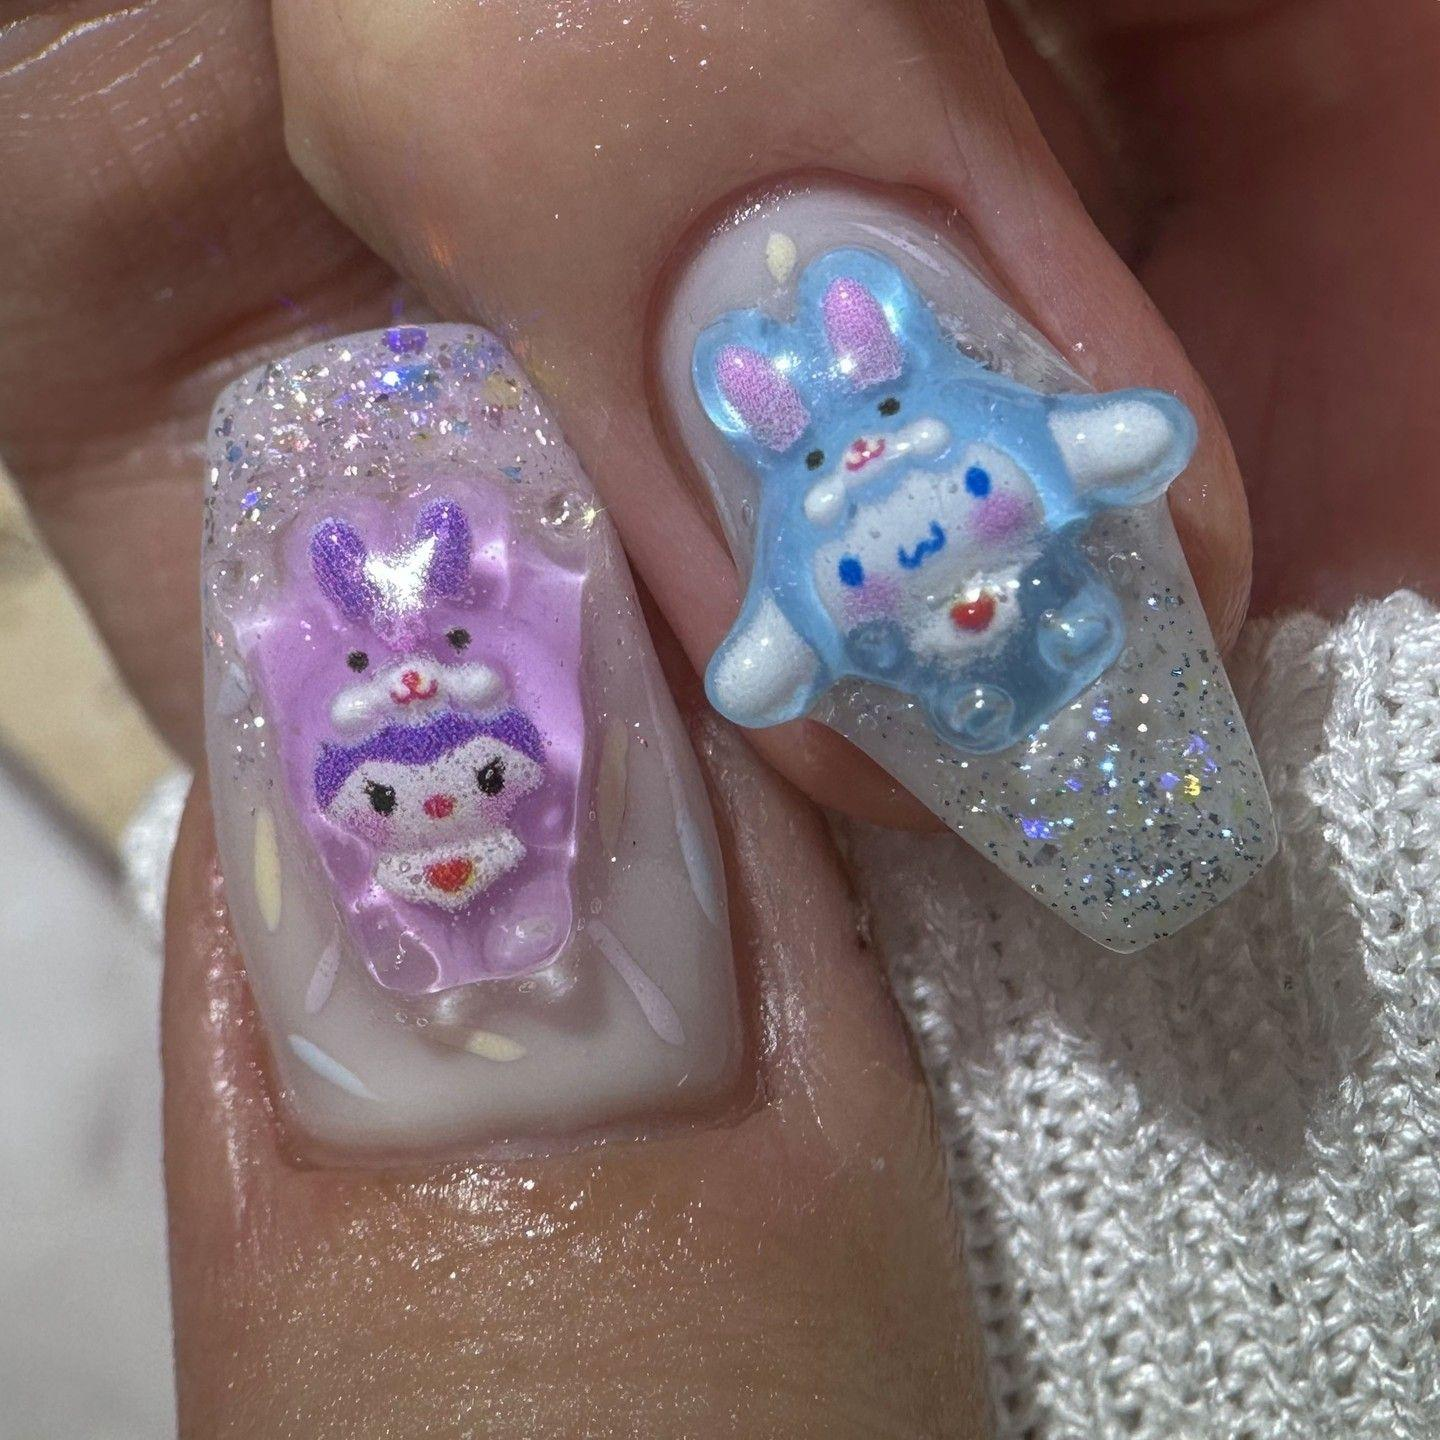nail: (647, 173, 1280, 953), (196, 318, 749, 1164)
